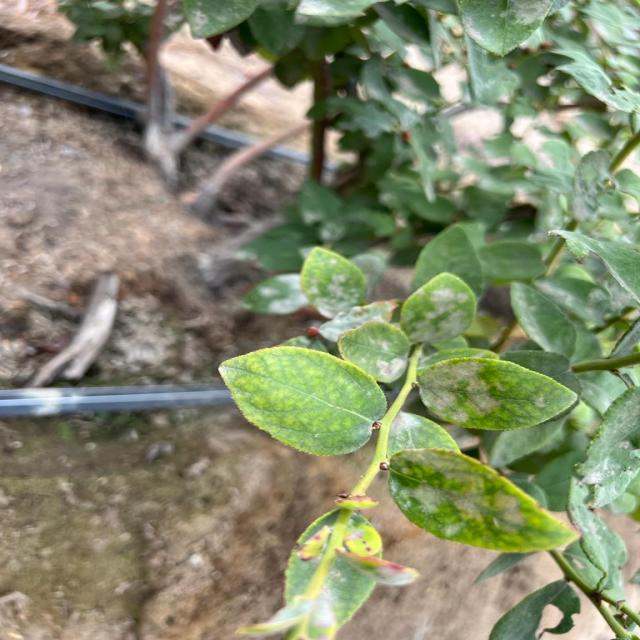Hojas con oidiosis: (392, 452, 579, 558), (319, 264, 399, 356), (411, 291, 475, 362)
